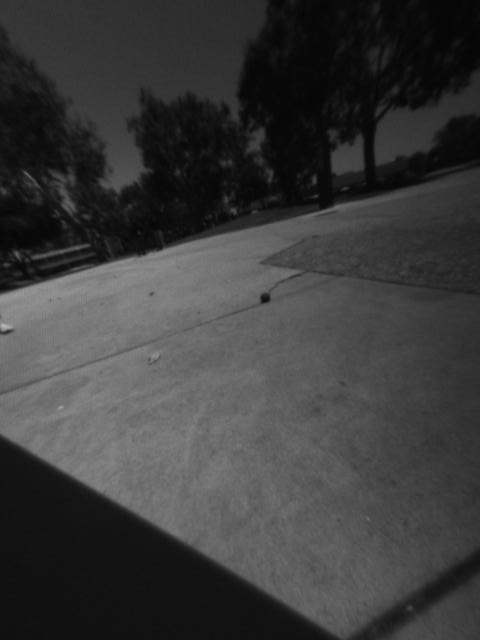dogtoy: (250, 282, 277, 311)
